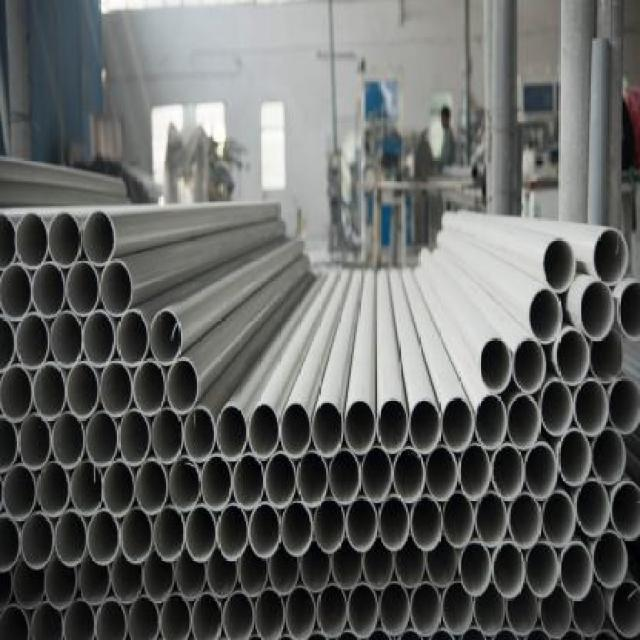pipe: (579, 280, 615, 340), (574, 377, 610, 436), (560, 540, 594, 601), (594, 229, 630, 286), (31, 260, 66, 318), (555, 328, 590, 386), (591, 428, 626, 486), (16, 211, 50, 270), (576, 479, 610, 538), (22, 511, 56, 570), (16, 312, 50, 370), (52, 412, 86, 470), (509, 492, 543, 550), (66, 360, 99, 419), (55, 509, 88, 568), (48, 213, 82, 270), (66, 260, 100, 317), (512, 337, 546, 394), (132, 360, 166, 417), (540, 379, 574, 436), (3, 463, 37, 520), (543, 491, 577, 548), (594, 529, 628, 586), (33, 362, 66, 420), (559, 428, 592, 486), (525, 442, 558, 500), (201, 454, 234, 512), (103, 460, 136, 518), (493, 540, 526, 598), (526, 540, 559, 598), (543, 237, 577, 293), (529, 288, 563, 344), (0, 263, 32, 322), (608, 376, 640, 435), (101, 260, 134, 317), (149, 309, 182, 366), (116, 309, 149, 366), (51, 311, 84, 368), (83, 311, 116, 368), (480, 337, 513, 394), (0, 365, 33, 422), (86, 409, 119, 466), (19, 413, 52, 470), (491, 443, 524, 500), (135, 459, 168, 516), (71, 460, 104, 517), (37, 462, 70, 519), (281, 500, 314, 557), (120, 508, 153, 565), (589, 329, 623, 384), (100, 360, 132, 418), (312, 400, 344, 458), (232, 452, 264, 510), (166, 359, 199, 415), (475, 394, 508, 450), (442, 396, 475, 452), (377, 397, 410, 453), (410, 399, 443, 455), (345, 399, 378, 455), (185, 406, 218, 462), (151, 408, 184, 464), (265, 453, 298, 509), (168, 456, 201, 512), (476, 491, 509, 547), (280, 402, 312, 459), (248, 403, 280, 460), (118, 409, 150, 466), (458, 443, 490, 500), (426, 445, 458, 502), (362, 446, 394, 503), (88, 509, 120, 566), (573, 583, 606, 638), (83, 211, 116, 266), (508, 394, 541, 449), (411, 495, 444, 550), (45, 555, 78, 610), (394, 446, 426, 502), (329, 448, 361, 504), (378, 494, 410, 550), (154, 506, 186, 562), (460, 540, 492, 596), (297, 449, 328, 506), (443, 493, 474, 550), (249, 502, 280, 559), (217, 505, 248, 562), (186, 506, 217, 563), (540, 583, 572, 638), (346, 497, 378, 552), (314, 497, 346, 552), (348, 582, 379, 638), (217, 405, 248, 461), (506, 582, 538, 636), (474, 582, 506, 636), (409, 582, 441, 636), (268, 540, 300, 594), (611, 482, 640, 541), (317, 583, 348, 638), (78, 553, 110, 606), (379, 583, 410, 637), (286, 586, 317, 640), (426, 532, 457, 586), (396, 534, 427, 588), (363, 536, 394, 590), (300, 539, 331, 593), (443, 582, 474, 635), (239, 543, 270, 596), (176, 546, 207, 599), (143, 550, 174, 603), (111, 551, 142, 604), (333, 536, 363, 590), (256, 588, 287, 640), (14, 559, 46, 609), (208, 546, 239, 597), (611, 580, 638, 638), (192, 591, 223, 640), (223, 591, 254, 640), (160, 593, 192, 640), (128, 595, 160, 640), (96, 597, 130, 638), (63, 598, 96, 640), (617, 279, 638, 344), (32, 600, 64, 639), (0, 514, 21, 572), (0, 604, 30, 640), (0, 414, 18, 473), (0, 211, 17, 271), (0, 315, 17, 373)
